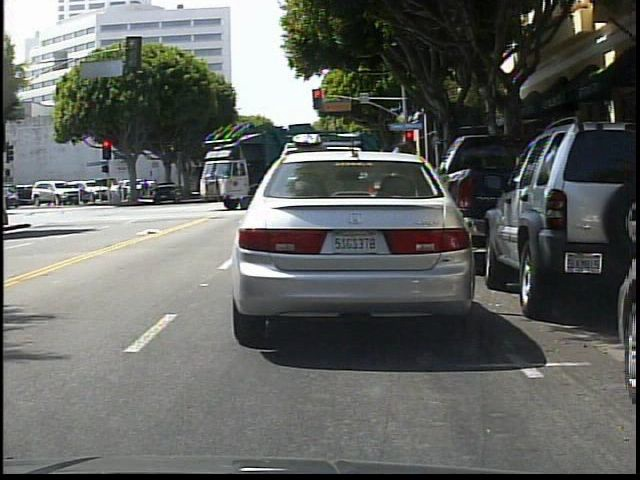person: (385, 138, 426, 275)
